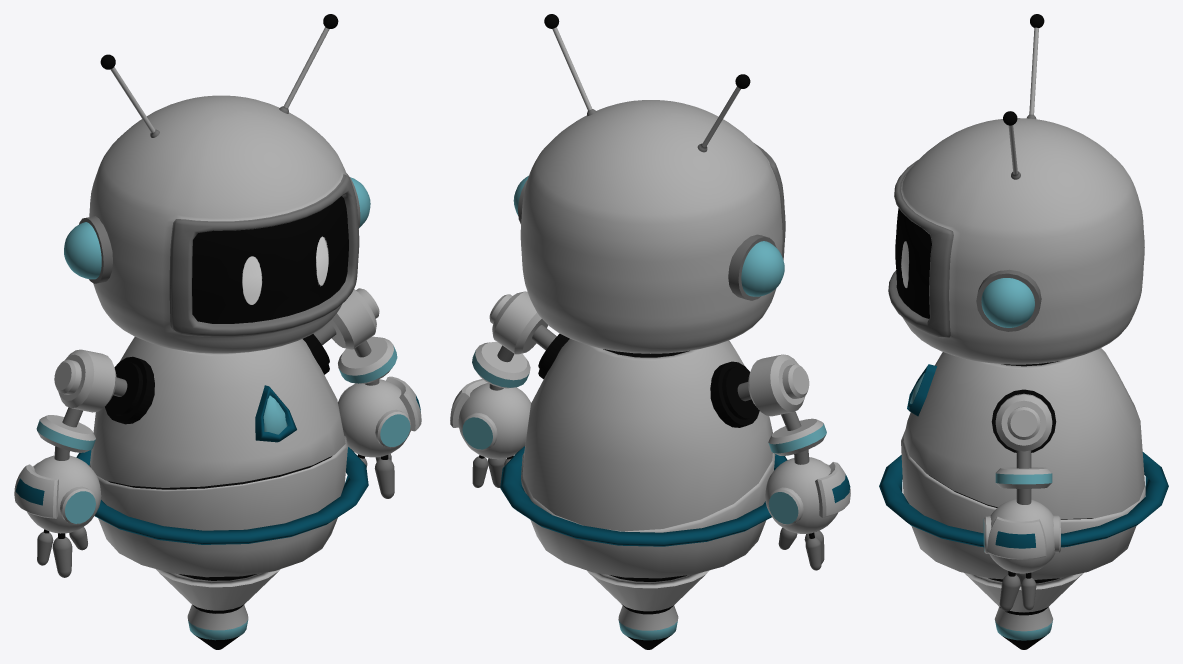
File: _obot 1.fbx
3 renders of one model, left to right at view 1: azimuth 30°, elevation 25°; view 2: azimuth 150°, elevation 25°; view 3: azimuth 270°, elevation 25°, orthographic. The views are drawn at different scales.
Visible parts, largest first — view 1: tete, corps, main_gauche, polySurface22, bras_gauche_haut, bras_droit_haut; view 2: tete, corps, main_gauche, polySurface22, bras_gauche_haut, bras_droit_haut; view 3: tete, corps, polySurface22, bras_droit_haut.
Part boxes in pixels (x1=…): tete: x1=64, y1=14, x2=370, y2=353; corps: x1=76, y1=321, x2=368, y2=649; main_gauche: x1=14, y1=455, x2=101, y2=577; polySurface22: x1=338, y1=376, x2=421, y2=498; bras_gauche_haut: x1=36, y1=349, x2=116, y2=460; bras_droit_haut: x1=329, y1=288, x2=397, y2=385; tete: x1=513, y1=14, x2=785, y2=353; corps: x1=500, y1=325, x2=787, y2=649; main_gauche: x1=765, y1=457, x2=850, y2=570; polySurface22: x1=450, y1=379, x2=530, y2=487; bras_gauche_haut: x1=748, y1=354, x2=826, y2=464; bras_droit_haut: x1=472, y1=291, x2=548, y2=390; tete: x1=888, y1=14, x2=1144, y2=364; corps: x1=879, y1=348, x2=1168, y2=649; polySurface22: x1=983, y1=499, x2=1060, y2=611; bras_droit_haut: x1=995, y1=393, x2=1052, y2=504.
Size of the model in its own units: 0.7407 by 1.1 by 0.4926.
Materials: 8 (2 with a texture image).
